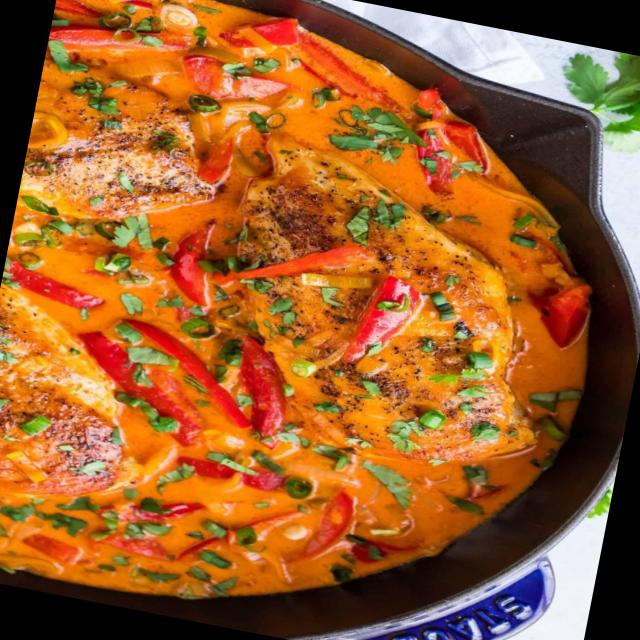chicken: (5, 4, 640, 619)
